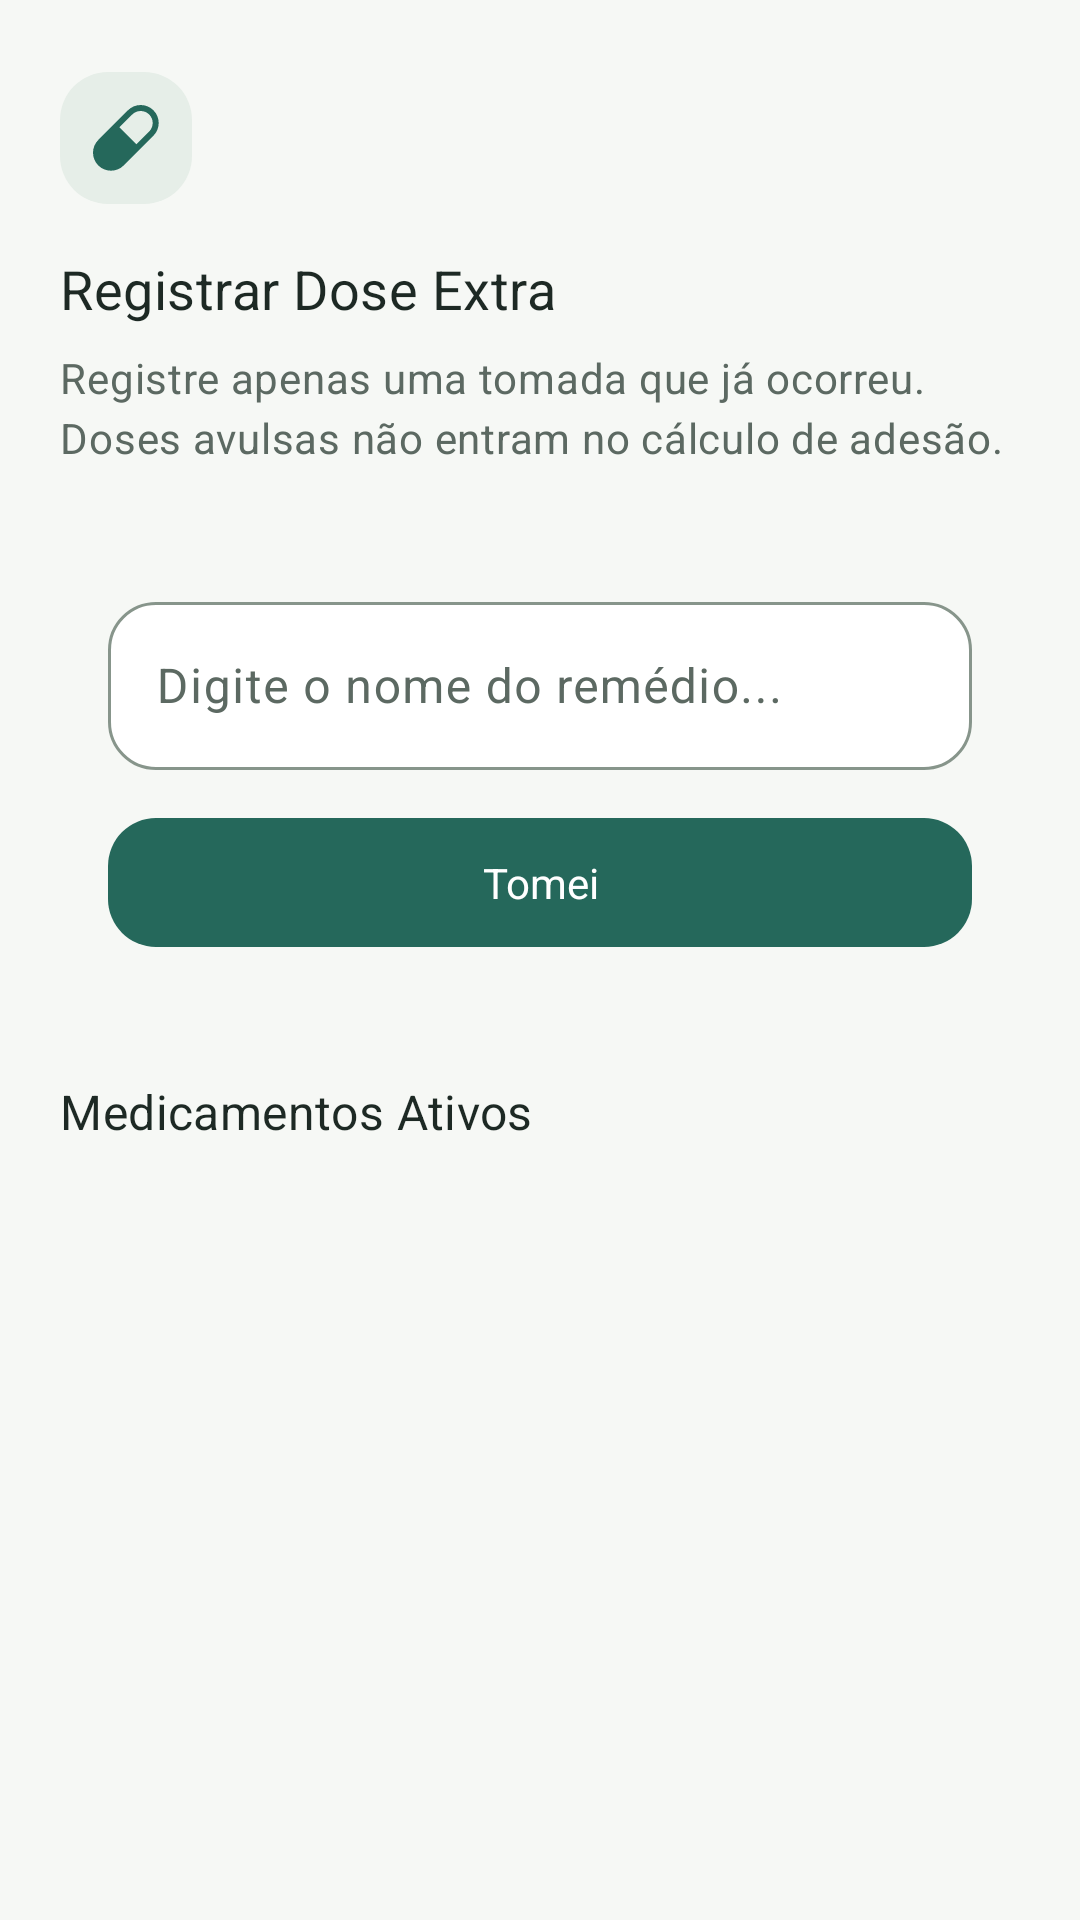

Icons on this 1080×1920 Android screen, each with its box as (x1, y1, x2, y2):
pill: (60, 72, 192, 204)
